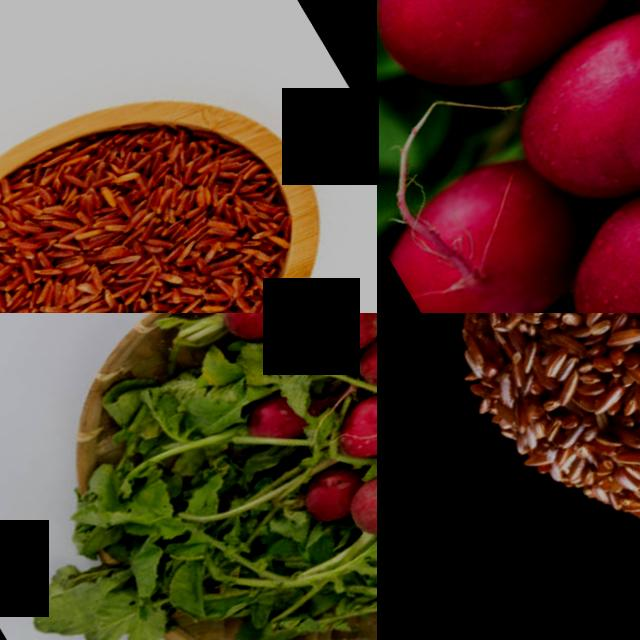radishes: (377, 0, 640, 313), (254, 313, 377, 501), (180, 313, 377, 417), (266, 428, 377, 578)
red rice: (377, 313, 640, 640), (0, 79, 331, 313)
